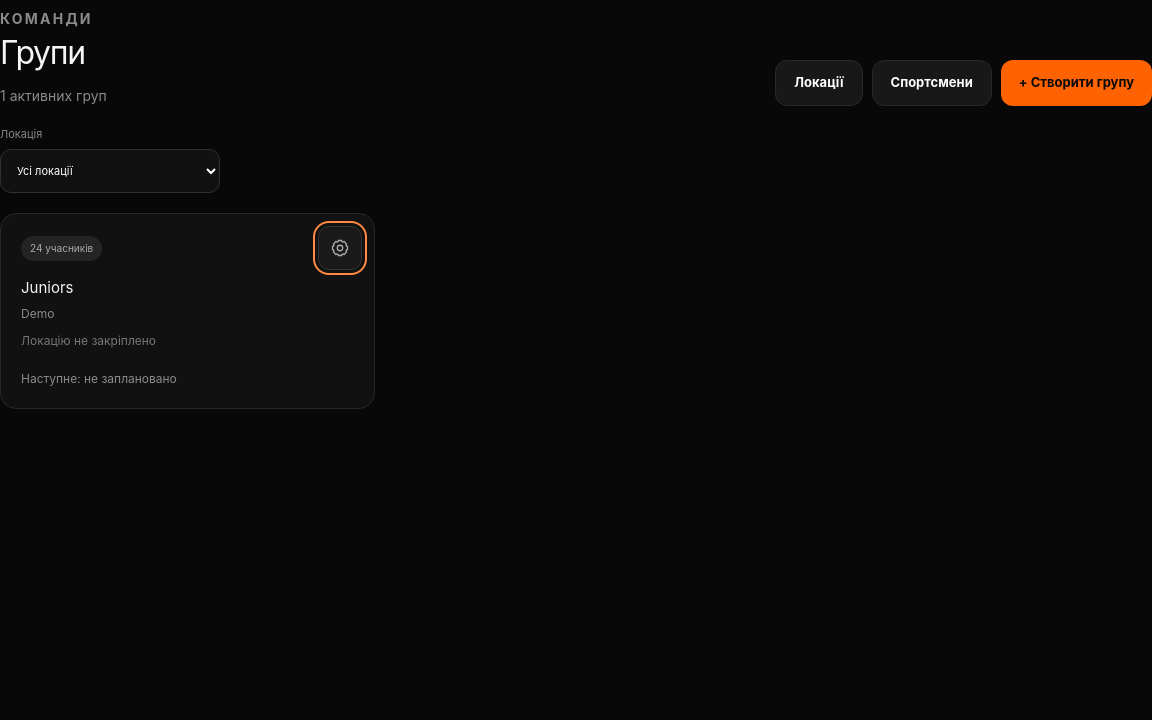
Test case: GroupManager modal › opens settings without navigating the group card and closes with Escape
The width and height of the screenshot is (1152, 720).
Click the button named "Налаштування групи Juniors". click: (340, 248)
box: [318,226,362,270]
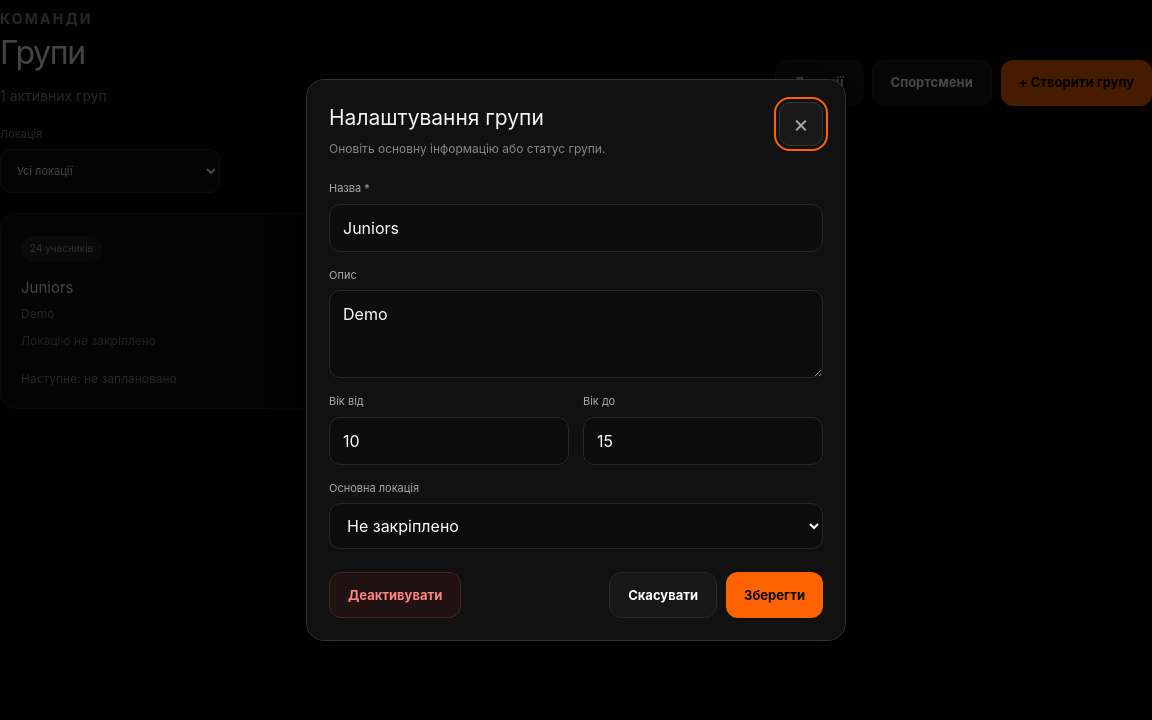
Check: the dialog "Налаштування групи" is shown, box [306,79,846,641]
Press Escape
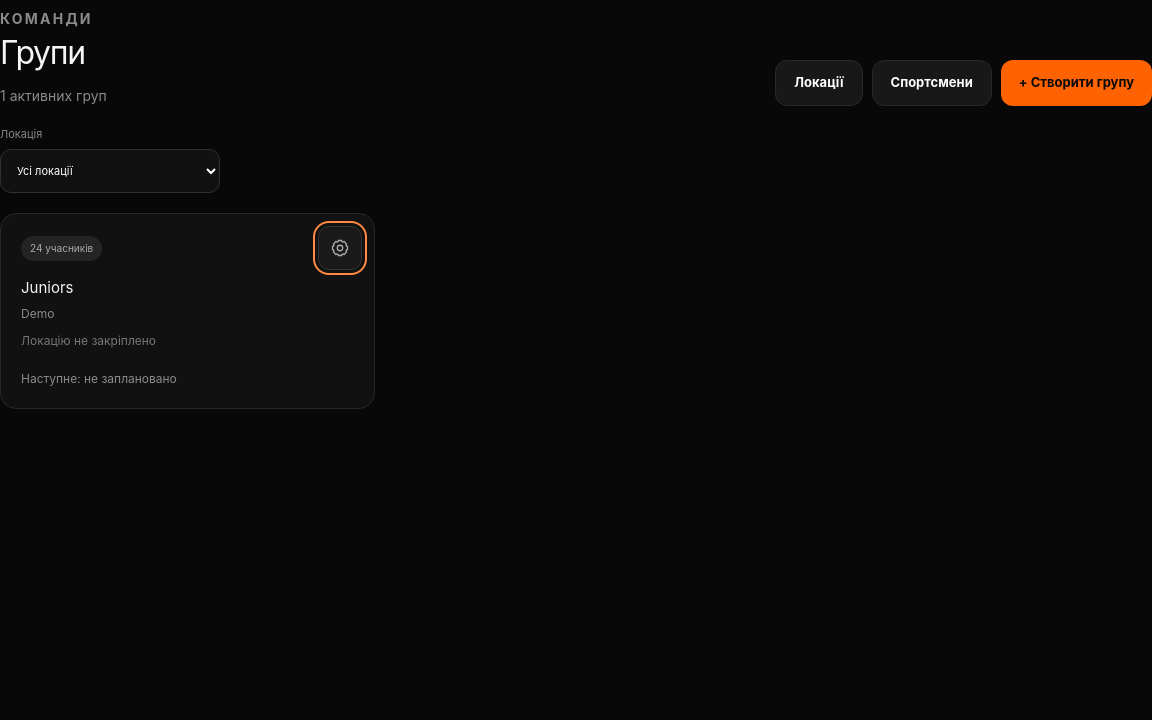
Check: the dialog is gone
